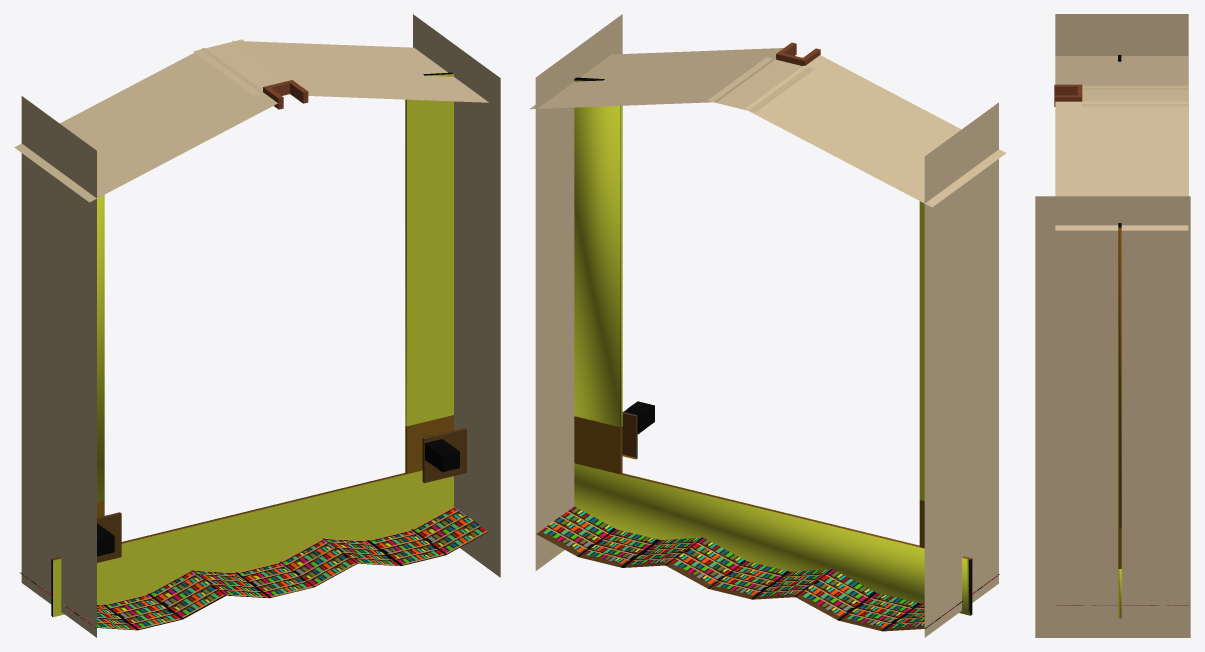
Rendered from stage.fbx.
The picture shows the model from 3 angles, left to right: view 1: azimuth 30°, elevation 25°; view 2: azimuth 150°, elevation 25°; view 3: azimuth 270°, elevation 25°; orthographic projection. The views are drawn at different scales.
Parts seen in each view (by area): view 1: Stage; view 2: Stage; view 3: Stage.
Boxes of the visible parts, left/top/right/bottom form: Stage: left=14, top=14, right=500, bottom=637; Stage: left=529, top=14, right=1006, bottom=637; Stage: left=1035, top=14, right=1190, bottom=637.
Size of the model in its own units: 12535 by 15323 by 4667.
